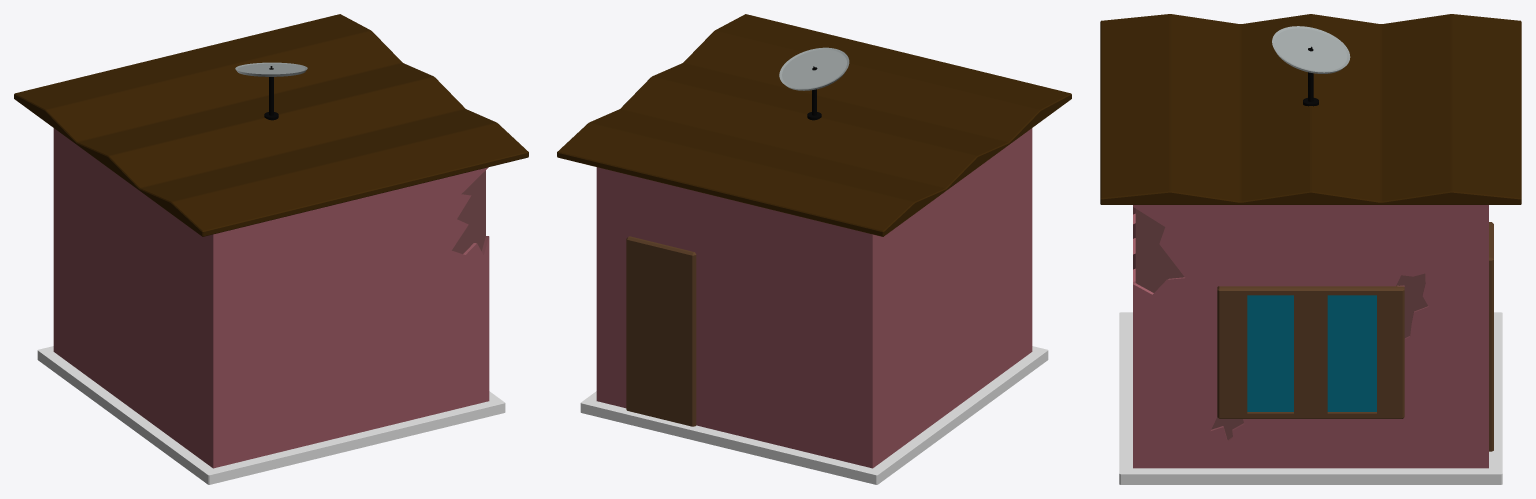
Rendered from Building #03.fbx.
3 renders of one model, left to right at view 1: azimuth 30°, elevation 25°; view 2: azimuth 150°, elevation 25°; view 3: azimuth 270°, elevation 25°, orthographic. The views are drawn at different scales.
Visible parts, largest first — view 1: House, Roof, Floor, Crack.003, Metal; view 2: House, Roof, Door, Floor, Metal; view 3: Roof, House, Wooden, Floor, Window.002, Window.001, Metal, Crack.003, Door, Crack.001.
Part boxes in pixels (left/top/right/bottom): House: left=53, top=128, right=489, bottom=468; Roof: left=14, top=14, right=528, bottom=236; Floor: left=37, top=346, right=505, bottom=484; Crack.003: left=452, top=170, right=485, bottom=253; Metal: left=235, top=62, right=307, bottom=76; House: left=596, top=128, right=1032, bottom=468; Roof: left=557, top=14, right=1071, bottom=236; Door: left=626, top=236, right=696, bottom=426; Floor: left=580, top=346, right=1048, bottom=484; Metal: left=779, top=47, right=849, bottom=90; Roof: left=1100, top=14, right=1521, bottom=204; House: left=1133, top=205, right=1488, bottom=468; Wooden: left=1217, top=285, right=1404, bottom=418; Floor: left=1119, top=312, right=1502, bottom=484; Window.002: left=1327, top=295, right=1376, bottom=411; Window.001: left=1247, top=295, right=1293, bottom=411; Metal: left=1272, top=26, right=1350, bottom=73; Crack.003: left=1135, top=209, right=1184, bottom=292; Door: left=1489, top=222, right=1493, bottom=451; Crack.001: left=1396, top=273, right=1427, bottom=338.
Size of the model in its own units: 200 by 191 by 200.
